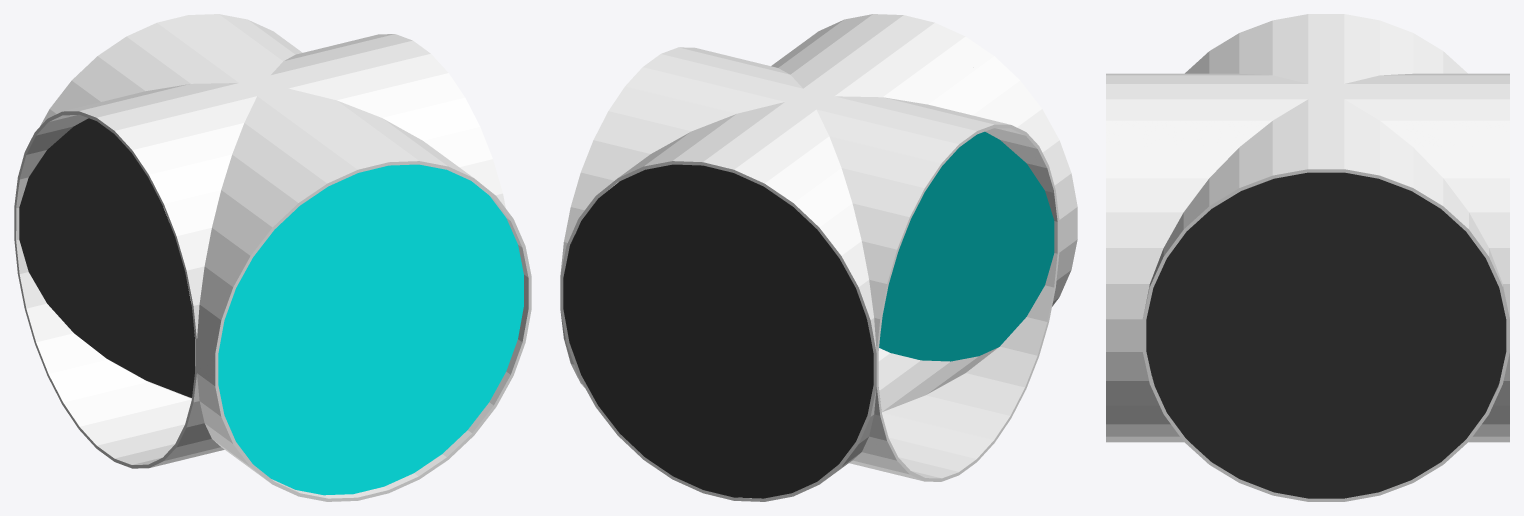
The model's file is SM_ZX_Submarin.FBX.
3 views of the same model, side by side, from view 1: azimuth 30°, elevation 25°; view 2: azimuth 150°, elevation 25°; view 3: azimuth 270°, elevation 25° (orthographic).
Parts seen in each view (by area): view 1: Again; view 2: Again; view 3: Again.
Boxes of the visible parts, x1=… form: Again: x1=14, y1=14, x2=531, y2=501; Again: x1=560, y1=14, x2=1077, y2=501; Again: x1=1106, y1=14, x2=1509, y2=501.
Bounding box in the file's own units: 100 × 110 × 100.
